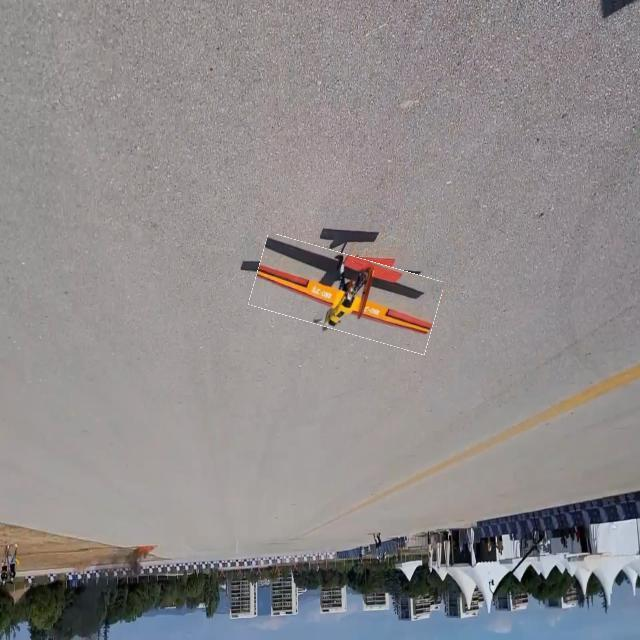UAV: (271, 236, 458, 370)
